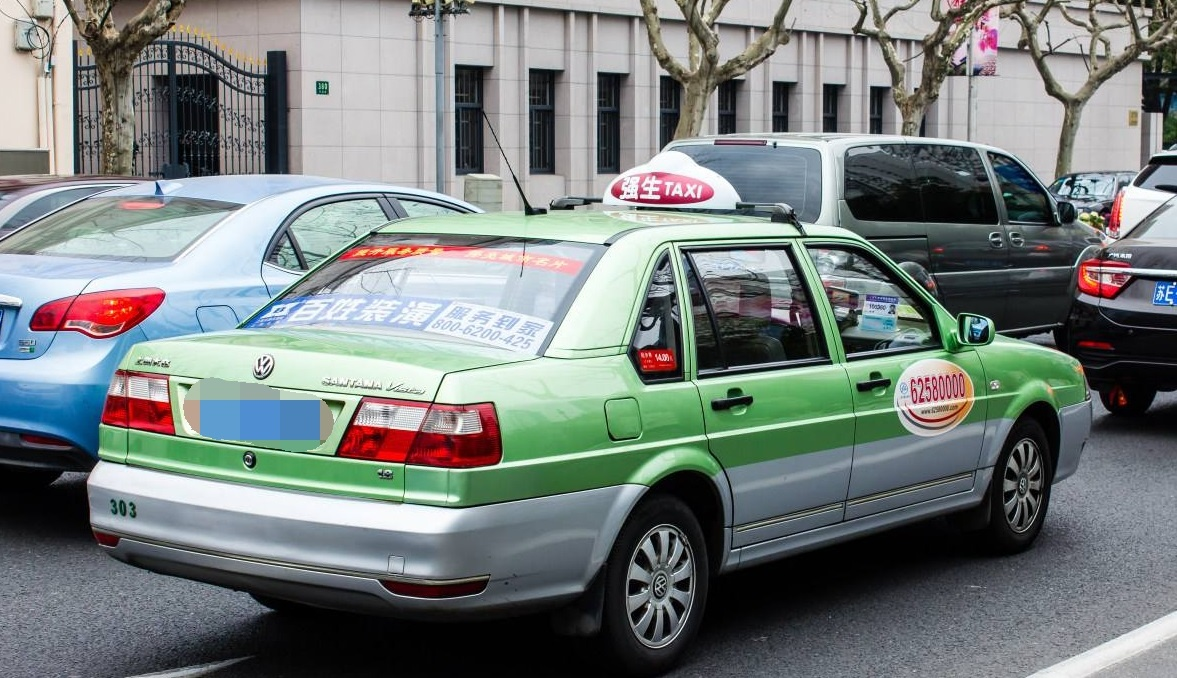taxi: (100, 156, 1100, 642)
